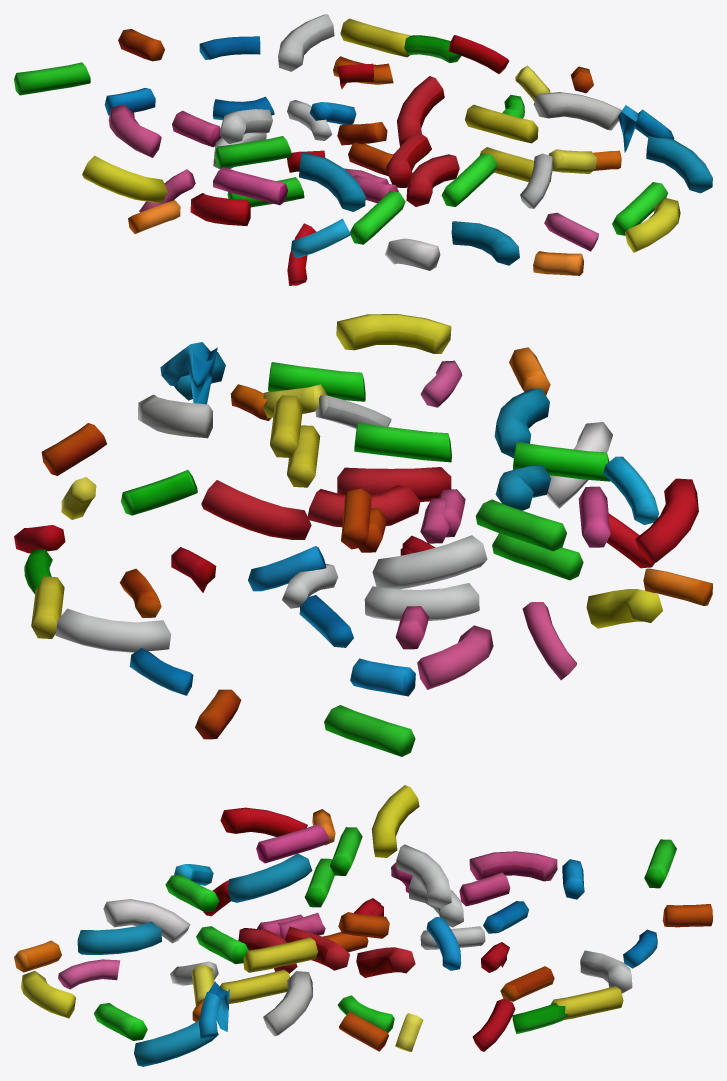
The model's file is Sprinkles.fbx.
The picture shows the model from 3 angles, top to bottom: view 1: azimuth 30°, elevation 25°; view 2: azimuth 150°, elevation 25°; view 3: azimuth 270°, elevation 25°; orthographic projection. The views are drawn at different scales.
Parts seen in each view (by area): view 1: Sprinkles; view 2: Sprinkles; view 3: Sprinkles.
Boxes of the visible parts, <box> form: Sprinkles: <box>14,14,712,285</box>; Sprinkles: <box>14,314,712,756</box>; Sprinkles: <box>14,785,712,1066</box>.
Bounding box in the file's own units: 0.0123 × 0.0022 × 0.0151.
